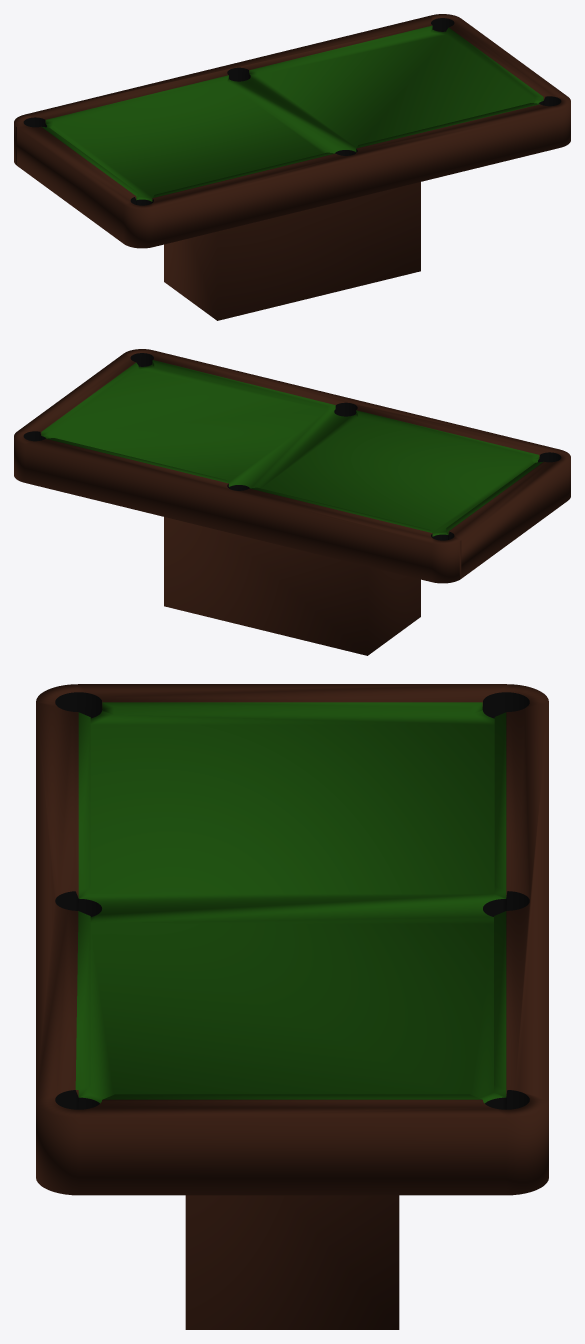
The model's file is Pool_Table.dae.
The picture shows the model from 3 angles, top to bottom: view 1: azimuth 30°, elevation 25°; view 2: azimuth 150°, elevation 25°; view 3: azimuth 270°, elevation 25°; orthographic projection. The views are drawn at different scales.
Bounding box in the file's own units: 2.4 × 1.2 × 0.85.
